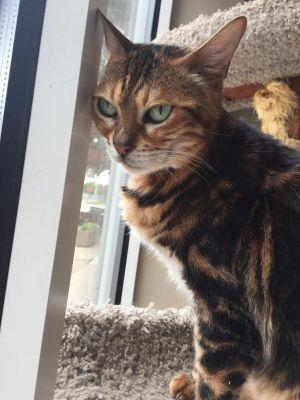bengal: (76, 3, 252, 181)
